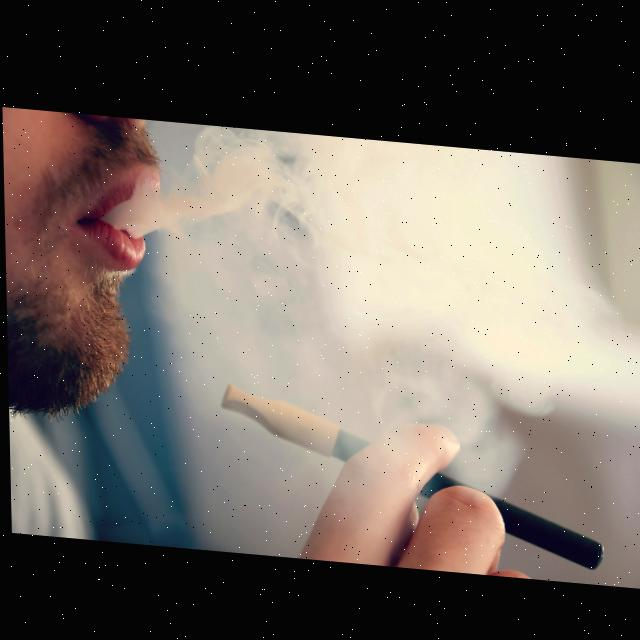vape: (219, 379, 605, 562)
